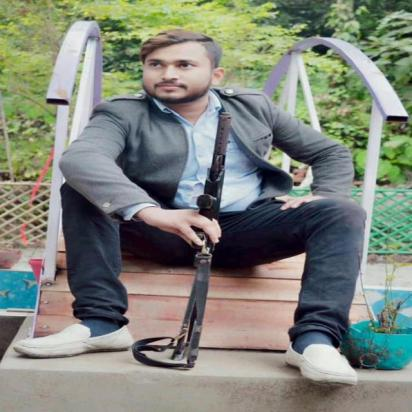Gun: (167, 110, 235, 363)
